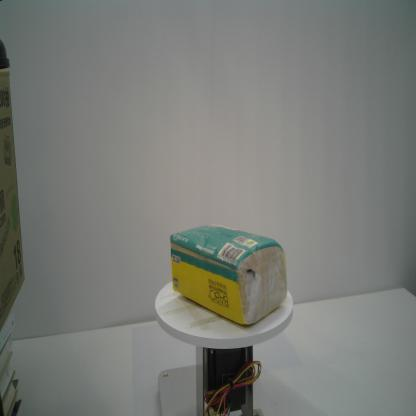Tissue: (169, 224, 289, 328)
